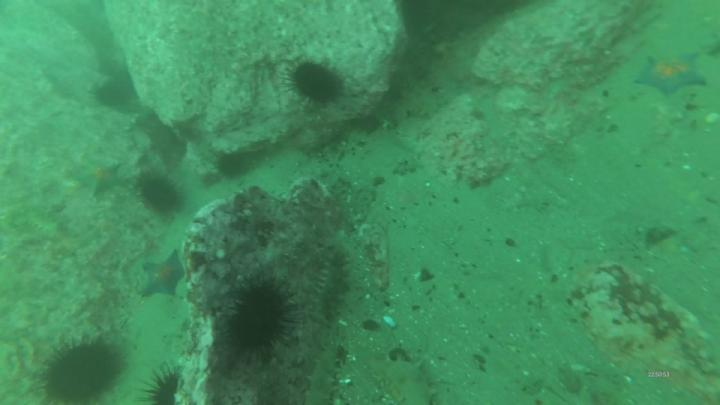echinus: (223, 273, 301, 366), (35, 332, 129, 405), (282, 57, 347, 110), (133, 165, 185, 219), (91, 71, 138, 110), (138, 366, 182, 405), (217, 152, 252, 179)
holothurian: (364, 354, 441, 405), (307, 249, 350, 329), (1, 202, 73, 245), (562, 47, 627, 91), (305, 338, 344, 405)
starfish: (635, 51, 711, 102), (137, 248, 188, 302), (73, 158, 129, 200)
